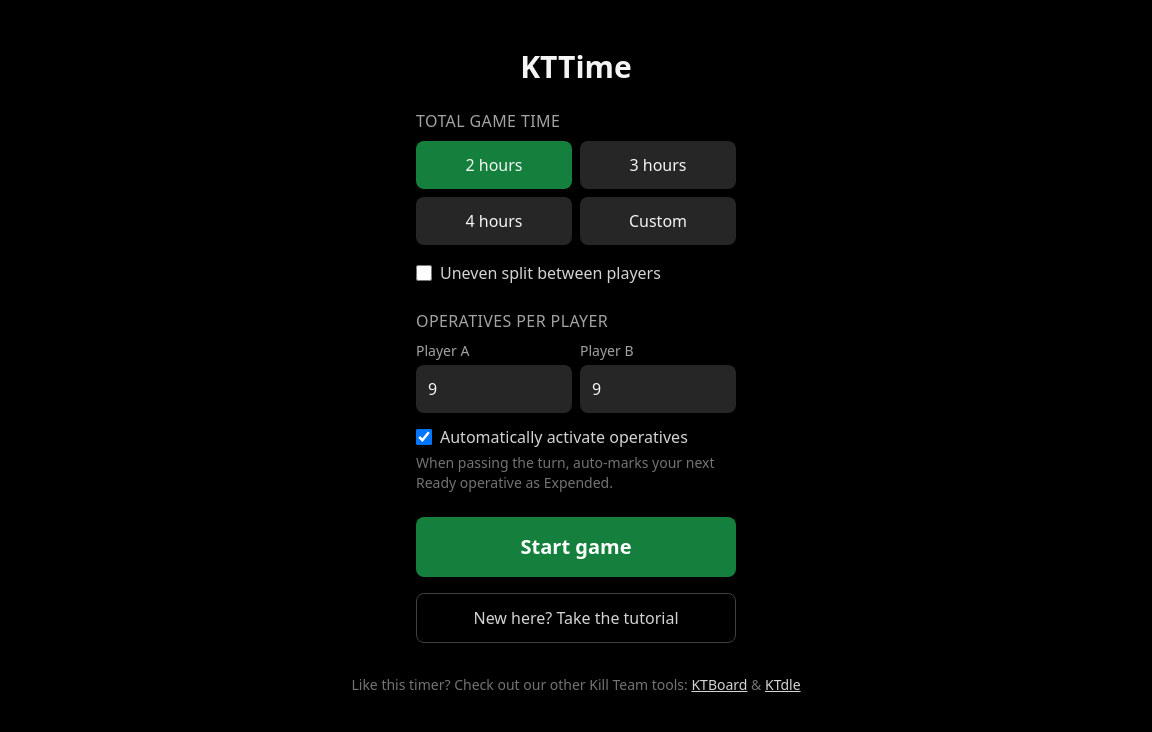
Test: App › starts in shared depletion awaiting initiative; tapping a zone declares that player the winner
Click the button "Start game" at [576, 547], box [416,517,736,577]
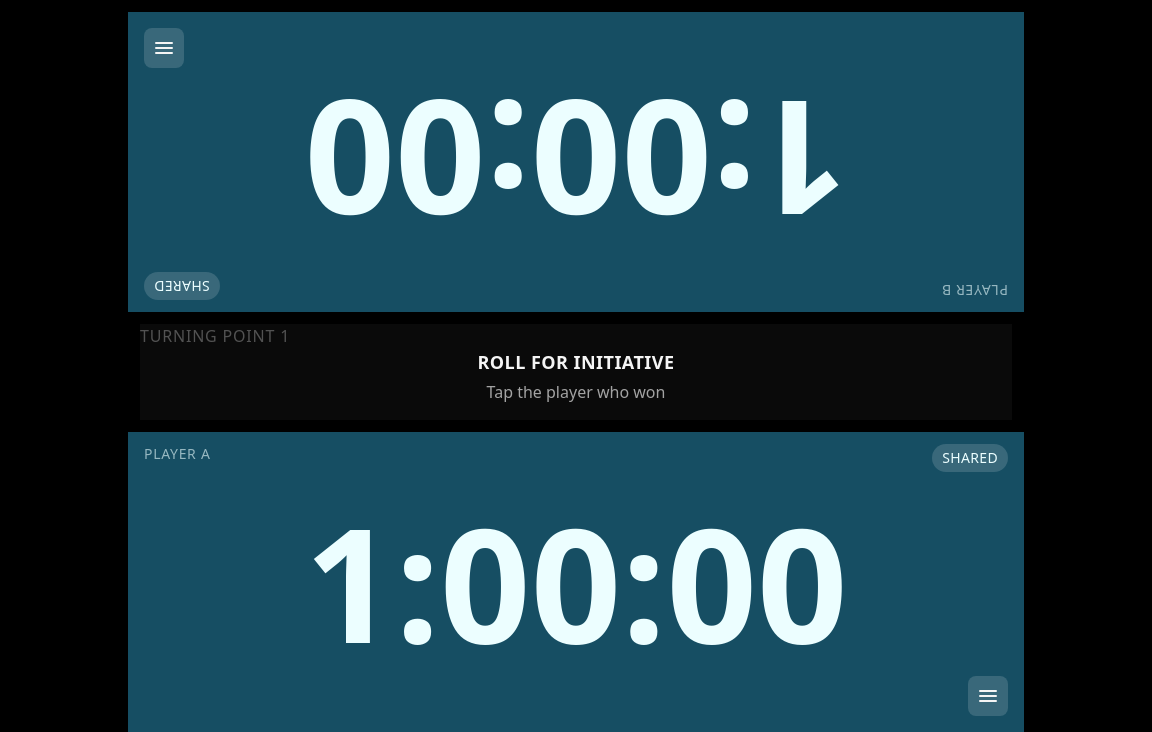
Check: the text "Shared" is shown 2 times, box [144,272,220,300]; [932,444,1008,472]
Check: the text "Roll for initiative" is shown, box [478,348,674,376]
Click the button named "Player A zone" at [576, 582], box [128,432,1024,731]
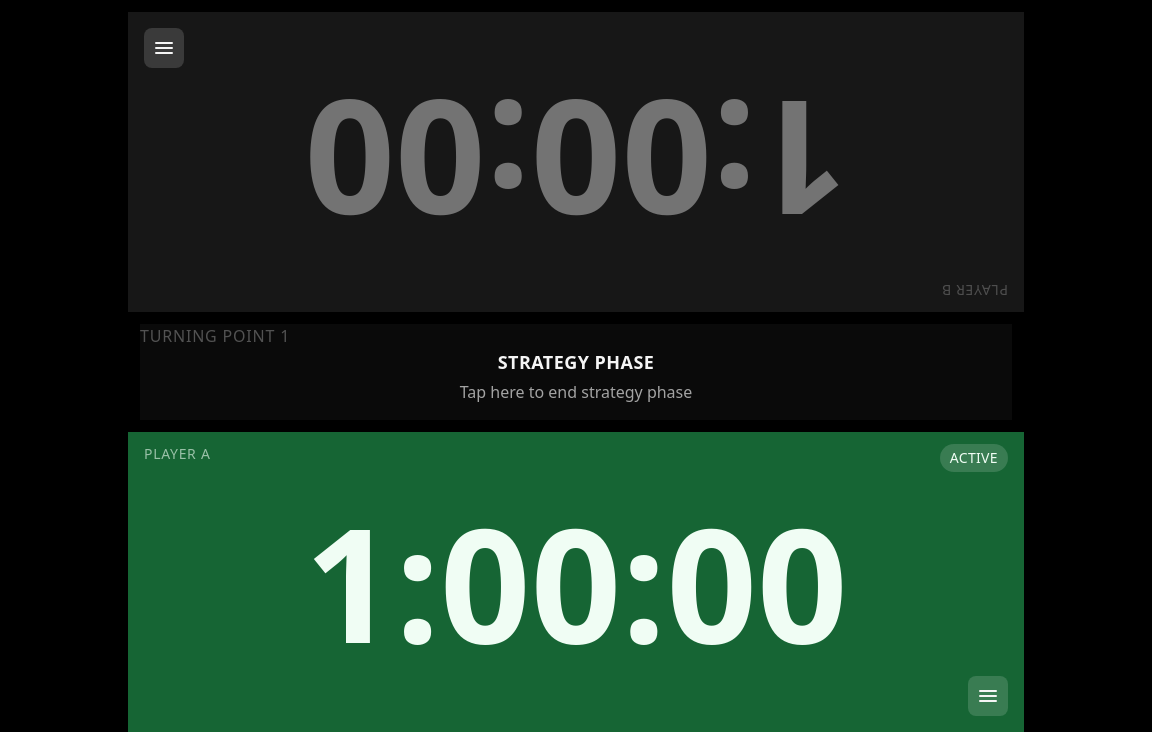
Check: the text "Roll for initiative" is gone
Check: the text "Active" is shown once, box [940,444,1008,472]
Check: the text "Player A" shows "Active", box [950,448,998,467]
